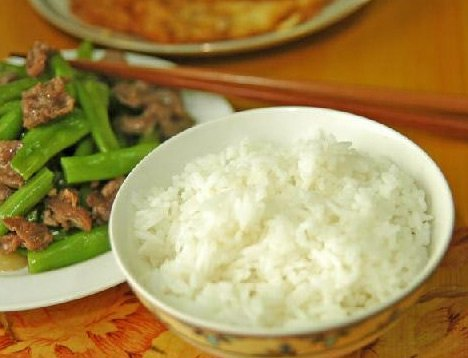plain rice: (153, 140, 402, 325)
